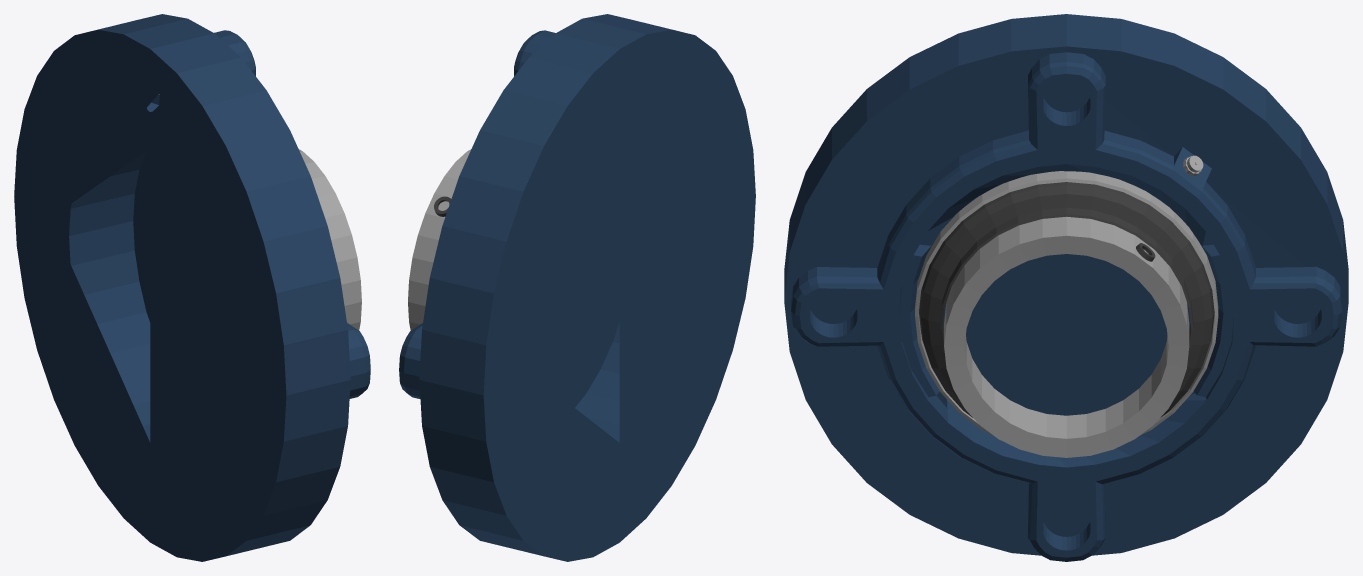
The model's file is Bearings.fbx.
3 views of the same model, side by side, from view 1: azimuth 30°, elevation 25°; view 2: azimuth 150°, elevation 25°; view 3: azimuth 270°, elevation 25° (orthographic). The views are drawn at different scales.
Parts seen in each view (by area): view 1: Blue_Metal, Cylinder; view 2: Blue_Metal, Cylinder; view 3: Blue_Metal, Cylinder, Cylinder.002, Cylinder.003.
Part boxes in pixels (x1,y1,x2,y2): Blue_Metal: [14, 14, 370, 561]; Cylinder: [298, 149, 361, 330]; Blue_Metal: [399, 14, 755, 561]; Cylinder: [408, 149, 471, 330]; Blue_Metal: [784, 14, 1348, 561]; Cylinder: [944, 216, 1189, 457]; Cylinder.002: [919, 182, 1213, 417]; Cylinder.003: [915, 171, 1218, 435].
Bounding box in the file's own units: 87.82 × 271 × 271.
